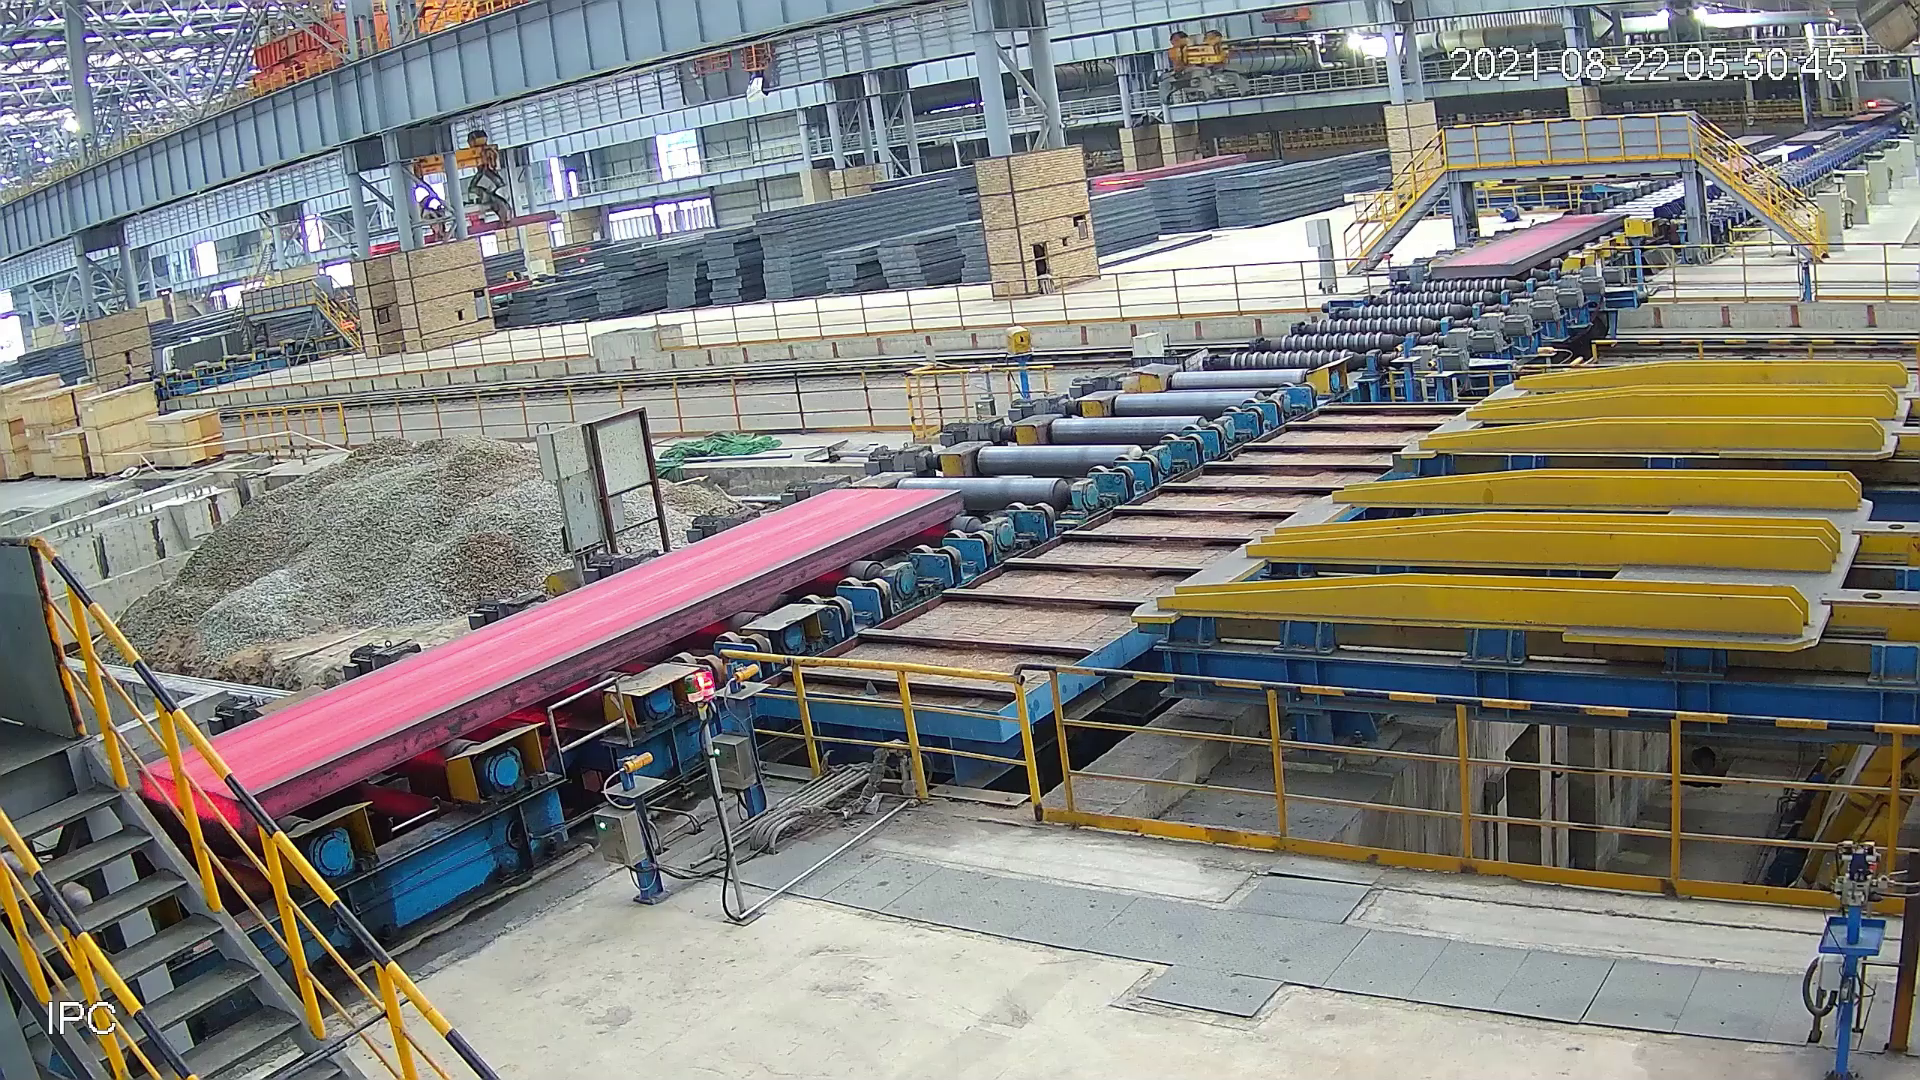crane: (1147, 36, 1261, 109)
slab: (132, 477, 992, 851), (1418, 206, 1622, 280)
